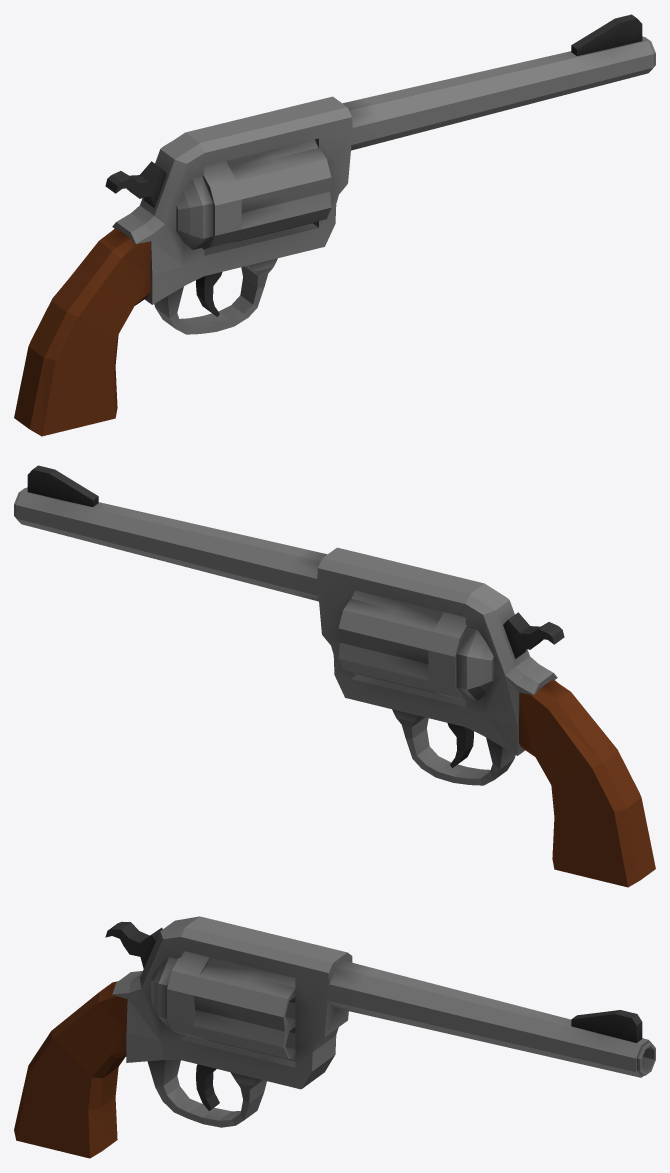
The model's file is v-revolver-a-medium.glb.
3 views of the same model, one above another, from view 1: azimuth 30°, elevation 25°; view 2: azimuth 150°, elevation 25°; view 3: azimuth 330°, elevation 25° (orthographic).
Parts seen in each view (by area): view 1: body; view 2: body; view 3: body.
Part boxes in pixels (x1,y1,x2,y2): body: [14, 14, 655, 436]; body: [14, 465, 655, 887]; body: [14, 916, 655, 1158].
Size of the model in its own units: 0.26 by 0.1043 by 0.0345.
